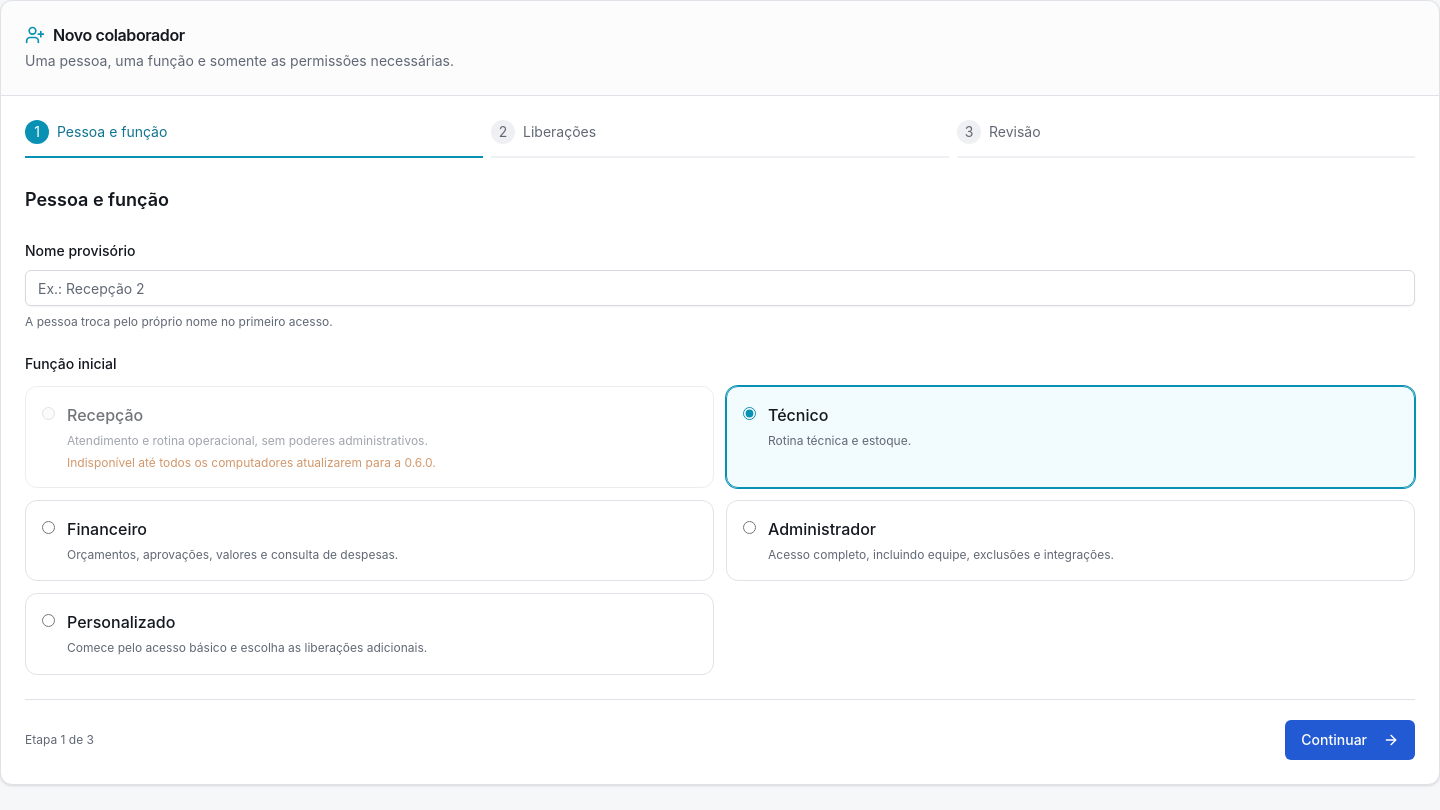
Test case: cadastro guiado de colaboradores › com a trava 0.5.6, não avança nem salva perfil sem permissão
Type "Maria" into the field labelled "Nome provisório" at (720, 288), box left=25, top=270, right=1415, bottom=306
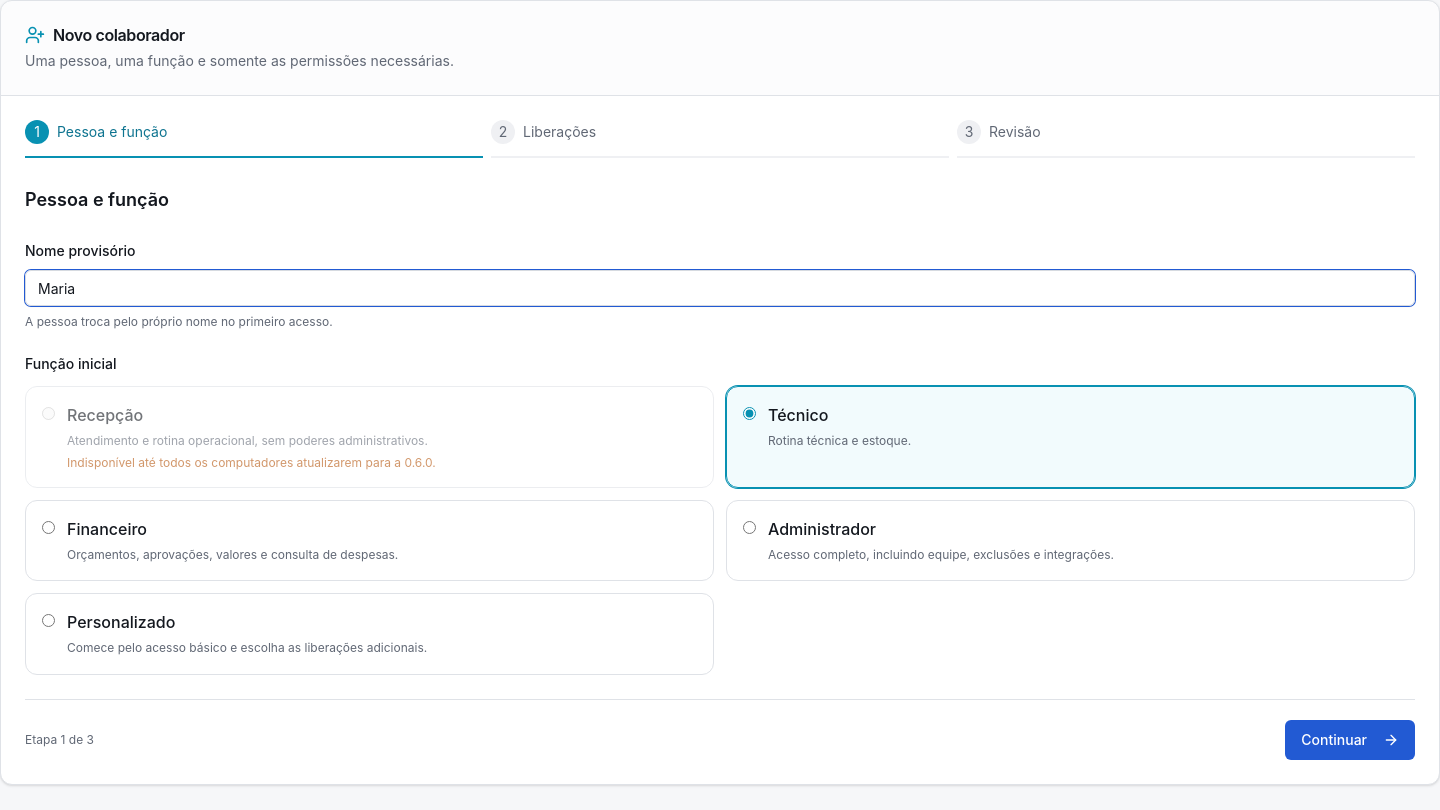
Click the radio button labelled "Personalizado" at (48, 620), box left=42, top=614, right=55, bottom=627
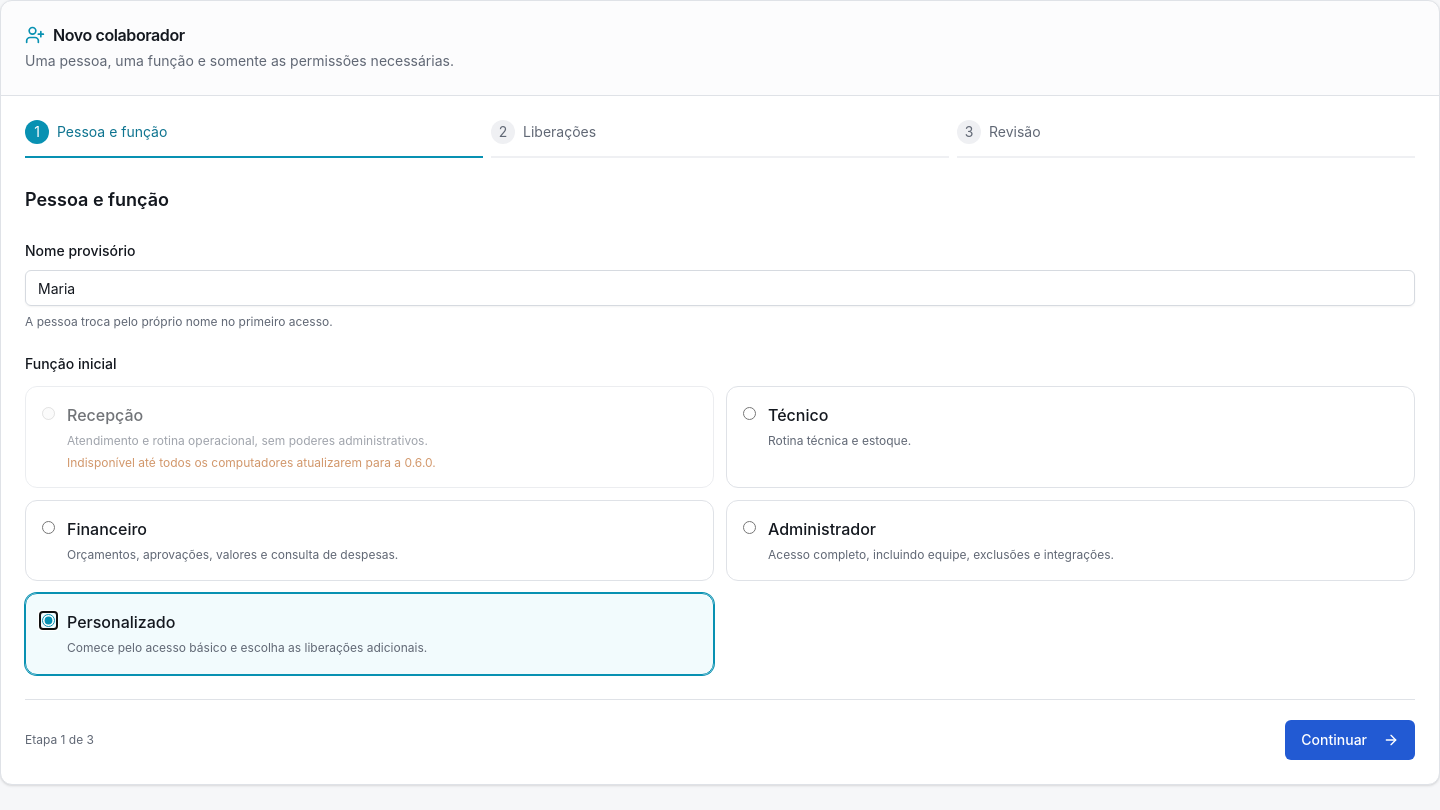
Click the button "Continuar" at (1350, 740), box left=1285, top=720, right=1415, bottom=760
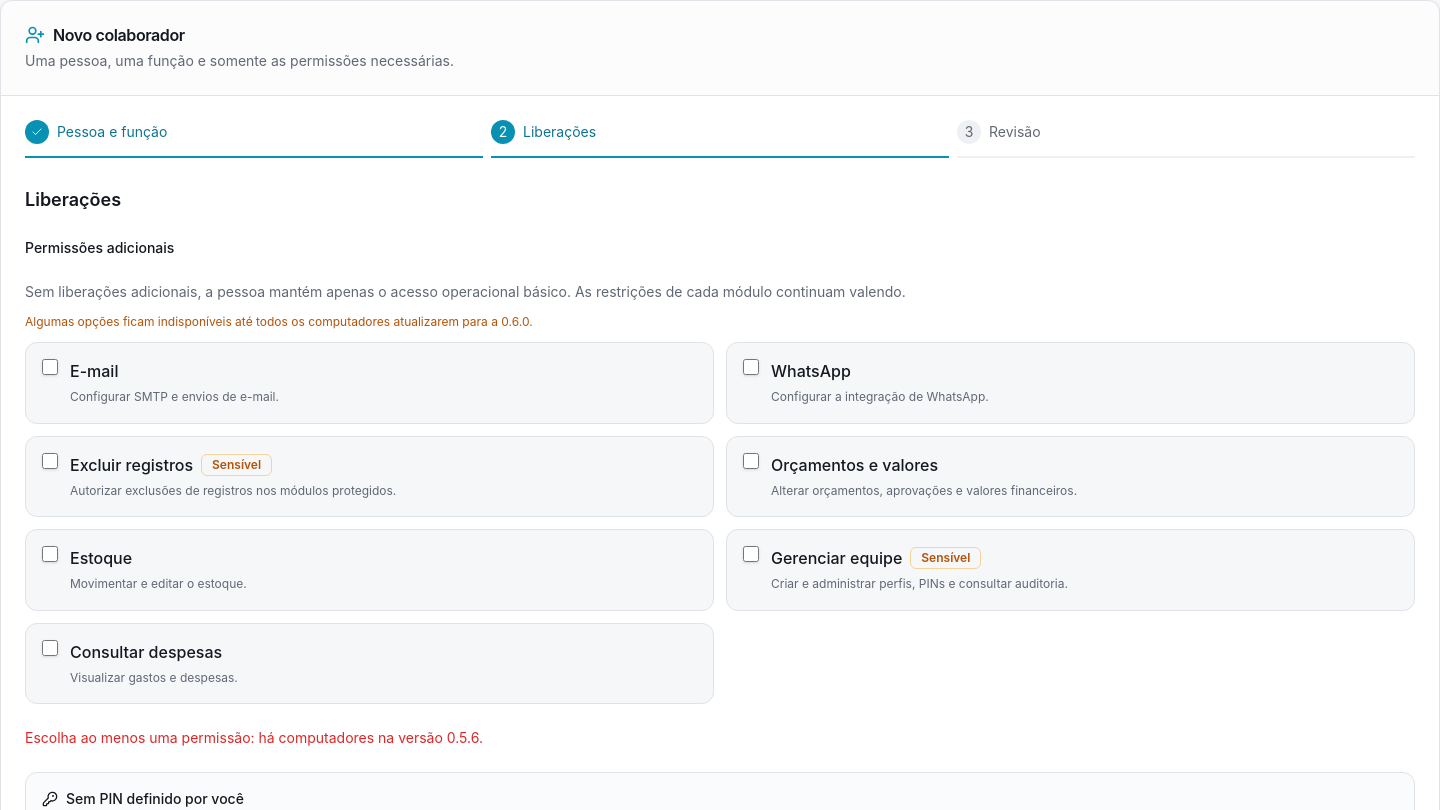
Check: the heading "Liberações" is shown, box left=25, top=189, right=121, bottom=210
Check: the message shows "ao menos uma permissão", box left=25, top=729, right=483, bottom=746
